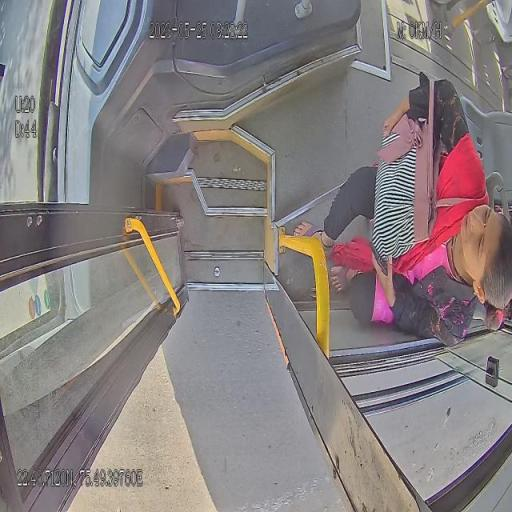persona: (292, 72, 511, 348)
